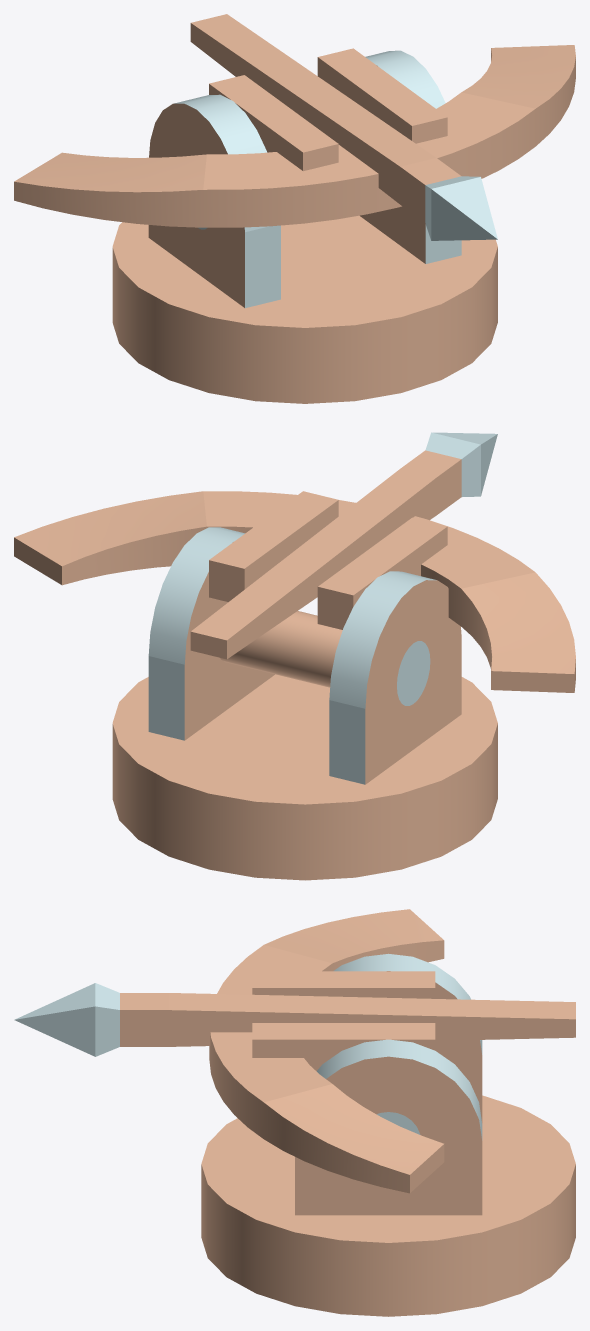
File: weapon_ballista.glb
3 views of the same model, one above another, from view 1: azimuth 30°, elevation 25°; view 2: azimuth 150°, elevation 25°; view 3: azimuth 270°, elevation 25° (orthographic). The views are drawn at different scales.
Parts seen in each view (by area): view 1: weapon_ballista, bow, arrow; view 2: weapon_ballista, bow, arrow; view 3: weapon_ballista, bow, arrow.
Boxes of the visible parts, x1,y1,x2,y2 form: weapon_ballista: (112,50,497,403); bow: (14,45,575,227); arrow: (190,14,497,240); weapon_ballista: (112,527,497,880); bow: (14,491,575,692); arrow: (190,432,497,659); weapon_ballista: (201,953,575,1316); bow: (209,909,444,1193); arrow: (14,983,575,1056).
Bounding box in the file's own units: 0.7724 × 0.3292 × 0.69.
